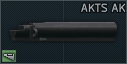AKM%5AK-74 CAA AKTS AK buffer tube: (0, 0, 127, 64)
